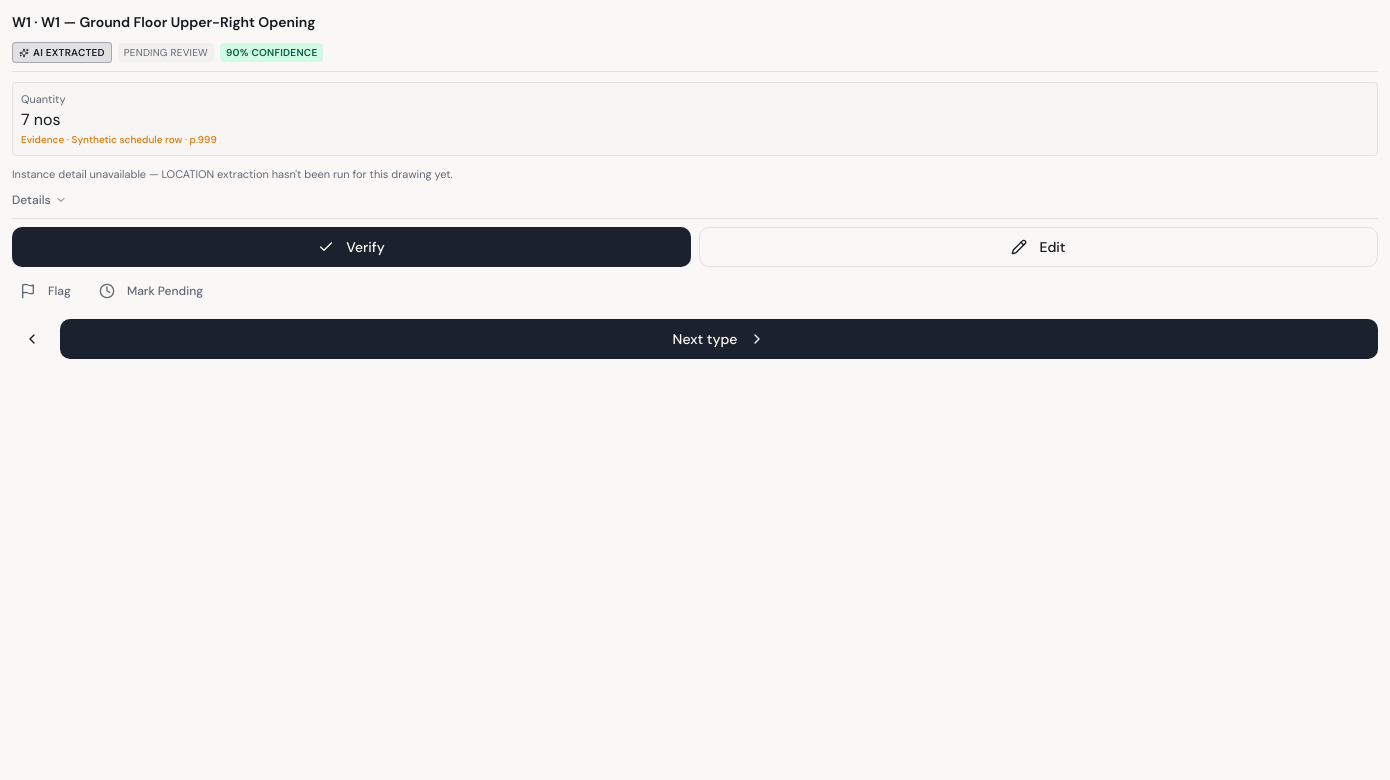
ItemPanel — Edit form: Specification field, pre-filled values (items 1 & 2) › has 5 editable AI-value fields, including Specification (not 4)
The width and height of the screenshot is (1390, 780).
Click the button "Edit" at x=1038, y=247, box [699,227,1378,267]
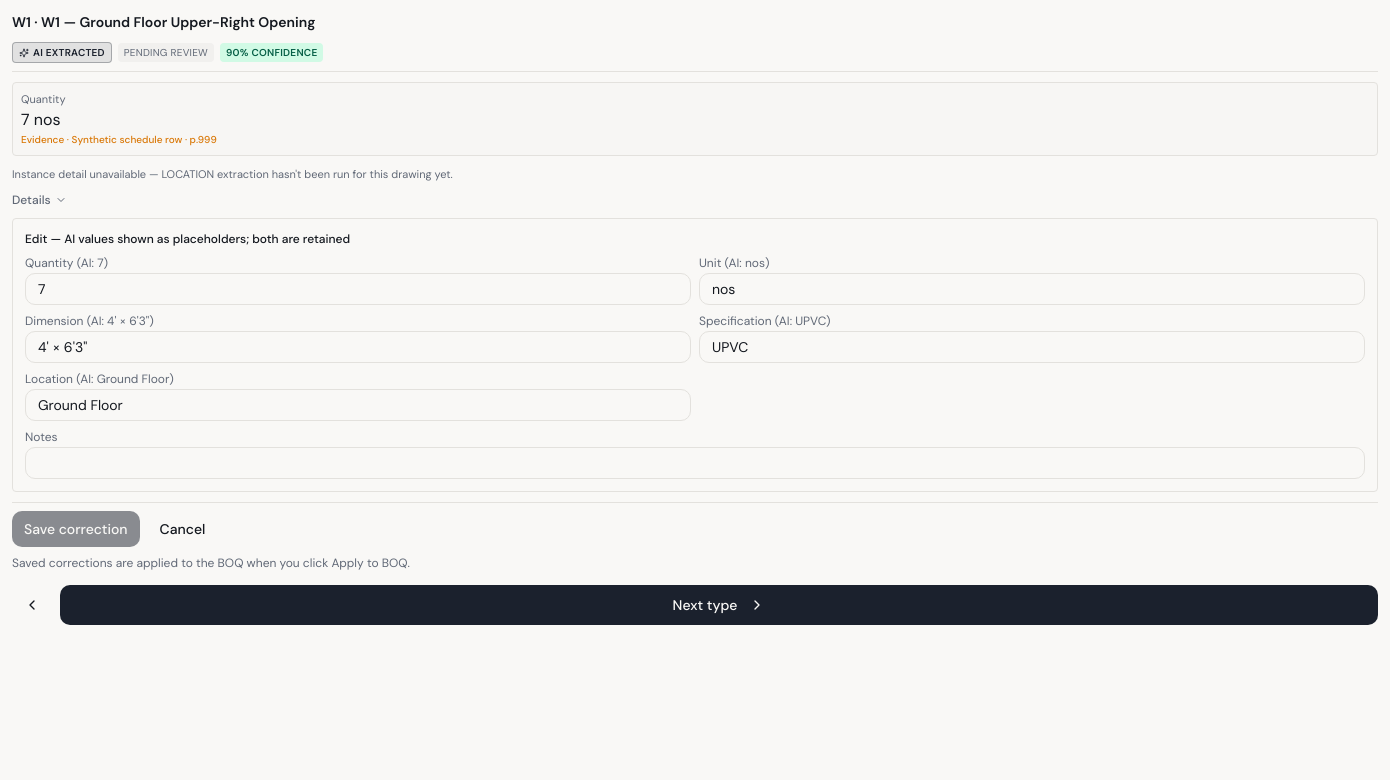
Result: the field labelled "Specification (AI: UPVC)" is shown at [699,331,1365,363]
